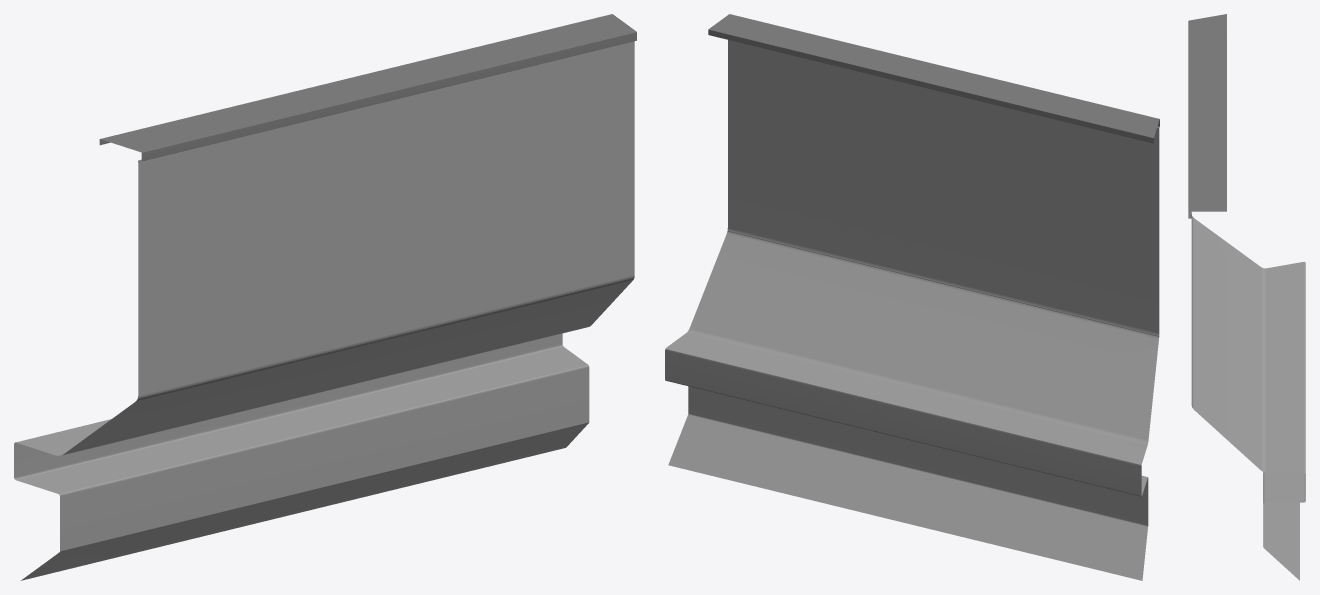
The model's file is SM_Balcony45_RightTop2.fbx.
3 renders of one model, left to right at view 1: azimuth 30°, elevation 25°; view 2: azimuth 150°, elevation 25°; view 3: azimuth 270°, elevation 25°, orthographic. The views are drawn at different scales.
Visible parts, largest first — view 1: Balcony2_RightTopCorner; view 2: Balcony2_RightTopCorner; view 3: Balcony2_RightTopCorner.
Part boxes in pixels (<box>): Balcony2_RightTopCorner: <box>14,14,636,580</box>; Balcony2_RightTopCorner: <box>665,14,1159,580</box>; Balcony2_RightTopCorner: <box>1188,14,1305,580</box>.
Size of the model in its own units: 199 by 162 by 46.73.
